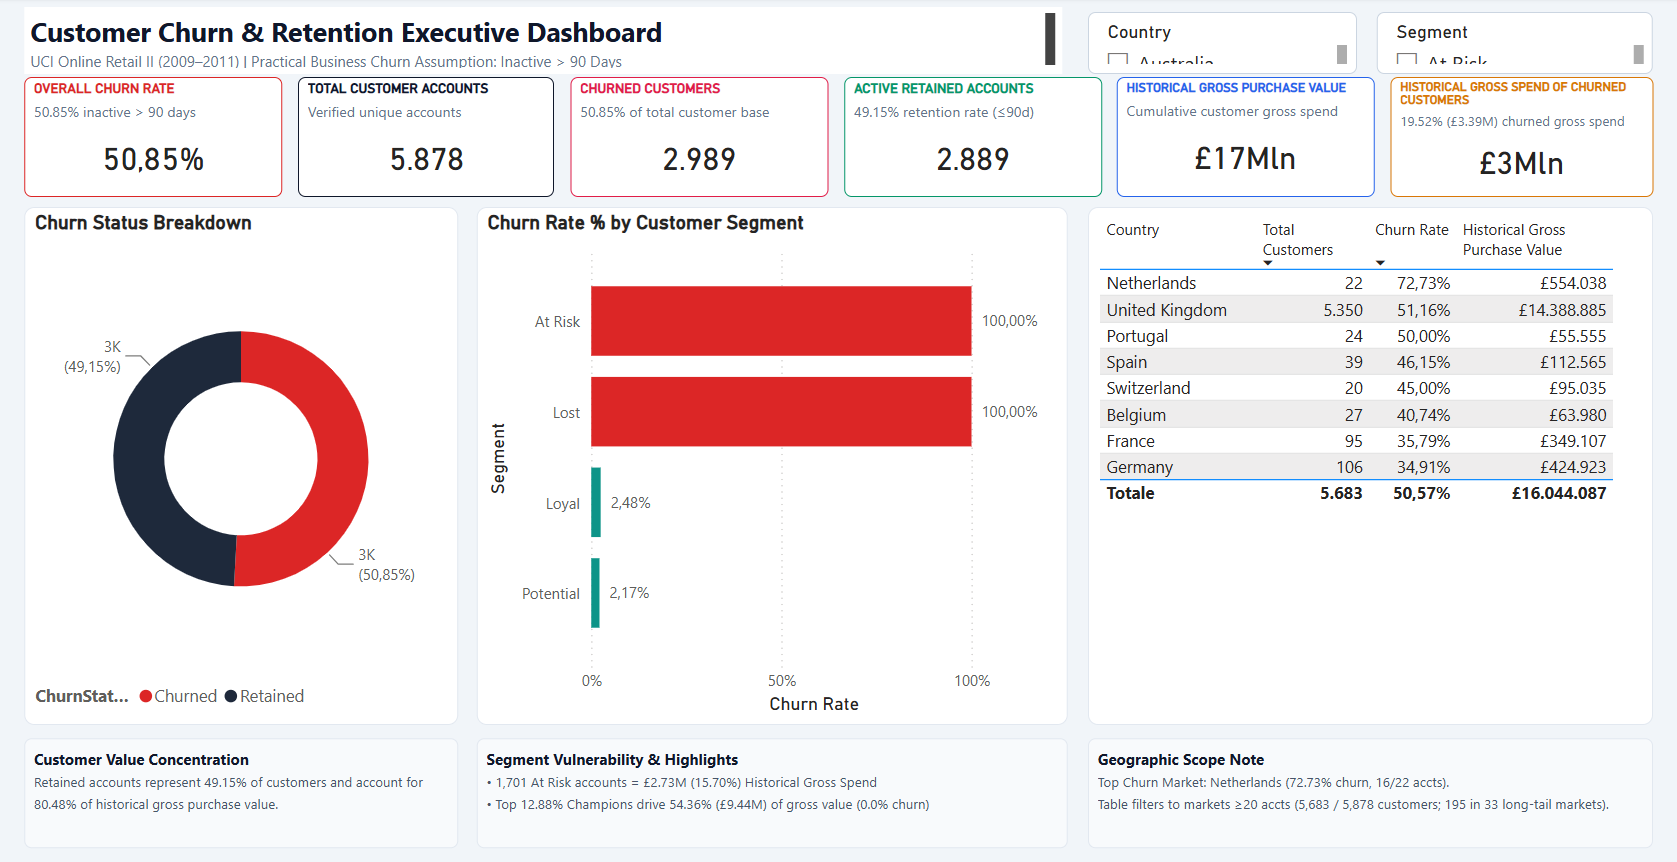

The page's visual inventory and layout, read from the dashboard file:
{"tool":"powerbi","page":{"name":"Executive Churn Overview","canvas":[1280,720],"ordinal":0},"visuals":[{"type":"textbox","box":[20,8,790,56],"z":0},{"type":"slicer","fields":{"Values":["customer_churn_rfm.Country"]},"box":[825,10,210,52],"z":1000},{"type":"slicer","fields":{"Values":["customer_churn_rfm.Segment"]},"box":[1050,10,210,52],"z":2000},{"type":"card","title":"OVERALL CHURN RATE","fields":{"Values":["customer_churn_rfm.Churn Rate"]},"box":[20,66,196,100],"z":3000},{"type":"card","title":"TOTAL CUSTOMER ACCOUNTS","fields":{"Values":["customer_churn_rfm.Total Customers"]},"box":[228,66,196,100],"z":4000},{"type":"card","title":"CHURNED CUSTOMERS","fields":{"Values":["customer_churn_rfm.Churned Customers"]},"box":[436,66,196,100],"z":4500},{"type":"card","title":"ACTIVE RETAINED ACCOUNTS","fields":{"Values":["customer_churn_rfm.Retained Customers"]},"box":[644,66,196,100],"z":5000},{"type":"card","title":"HISTORICAL GROSS PURCHASE VALUE","fields":{"Values":["customer_churn_rfm.Historical Gross Purchase Value"]},"box":[852,66,196,100],"z":6000},{"type":"card","title":"HISTORICAL GROSS SPEND OF CHURNED CUSTOMERS","fields":{"Values":["customer_churn_rfm.Historical Gross Spend of Churned Customers"]},"box":[1060,66,200,100],"z":7000},{"type":"donutChart","title":"Churn Status Breakdown","fields":{"Category":["customer_churn_rfm.ChurnStatus"],"Y":["customer_churn_rfm.Total Customers"]},"box":[20,174,330,430],"z":8000},{"type":"textbox","box":[20,614,330,92],"z":9000},{"type":"clusteredBarChart","title":"Churn Rate % by Customer Segment","fields":{"Category":["customer_churn_rfm.Segment"],"Y":["customer_churn_rfm.Churn Rate"]},"box":[365,174,450,430],"z":10000},{"type":"textbox","box":[365,614,450,92],"z":11000},{"type":"tableEx","title":"Top Countries by Churn Rate","fields":{"Values":["customer_churn_rfm.Country","customer_churn_rfm.Total Customers","customer_churn_rfm.Churn Rate","customer_churn_rfm.Historical Gross Purchase Value"]},"box":[830,174,430,430],"z":12000},{"type":"textbox","box":[830,614,430,92],"z":13000}]}

Visuals, with their boxes on the page's 1280x720 design canvas (x1, y1, x2, y2). These are canvas units, not pixel positions in the 1677x862 screenshot, which may show the page scaled, cropped or inside an application window:
textbox: [left=20, top=8, right=810, bottom=64]
slicer - customer_churn_rfm.Country: [left=825, top=10, right=1035, bottom=62]
slicer - customer_churn_rfm.Segment: [left=1050, top=10, right=1260, bottom=62]
"OVERALL CHURN RATE" card: [left=20, top=66, right=216, bottom=166]
"TOTAL CUSTOMER ACCOUNTS" card: [left=228, top=66, right=424, bottom=166]
"CHURNED CUSTOMERS" card: [left=436, top=66, right=632, bottom=166]
"ACTIVE RETAINED ACCOUNTS" card: [left=644, top=66, right=840, bottom=166]
"HISTORICAL GROSS PURCHASE VALUE" card: [left=852, top=66, right=1048, bottom=166]
"HISTORICAL GROSS SPEND OF CHURNED CUSTOMERS" card: [left=1060, top=66, right=1260, bottom=166]
"Churn Status Breakdown" donutChart: [left=20, top=174, right=350, bottom=604]
textbox: [left=20, top=614, right=350, bottom=706]
"Churn Rate % by Customer Segment" clusteredBarChart: [left=365, top=174, right=815, bottom=604]
textbox: [left=365, top=614, right=815, bottom=706]
"Top Countries by Churn Rate" tableEx: [left=830, top=174, right=1260, bottom=604]
textbox: [left=830, top=614, right=1260, bottom=706]
